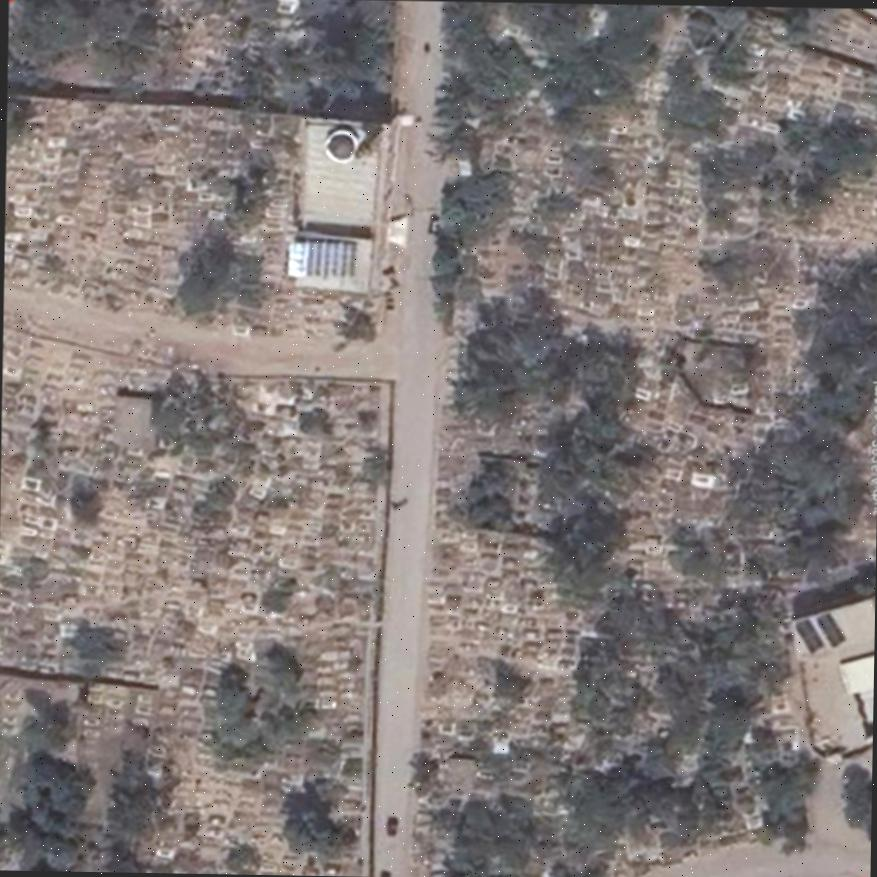Solarpanel: (287, 242, 349, 276), (791, 618, 822, 651), (817, 612, 845, 646)
